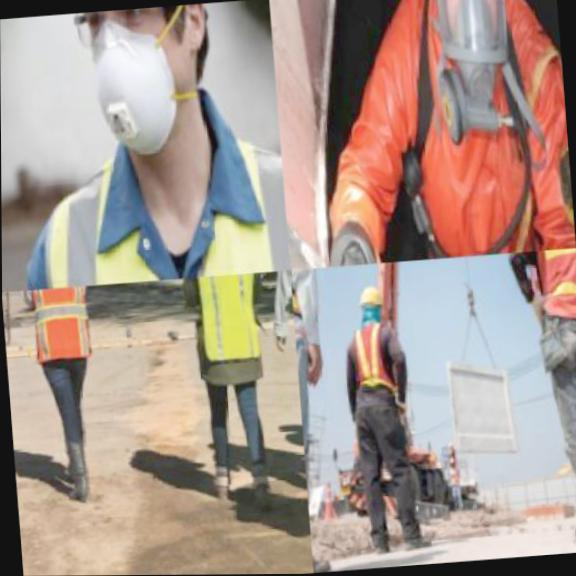safety_vest: (337, 0, 576, 264), (16, 103, 289, 289), (188, 271, 277, 364), (19, 285, 110, 369), (347, 311, 406, 402), (521, 248, 576, 334)
